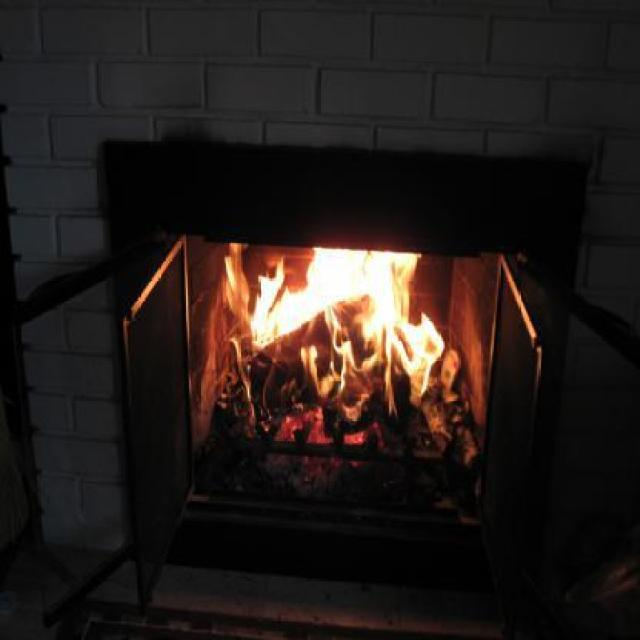Fire: (198, 241, 468, 427), (253, 251, 448, 382)
